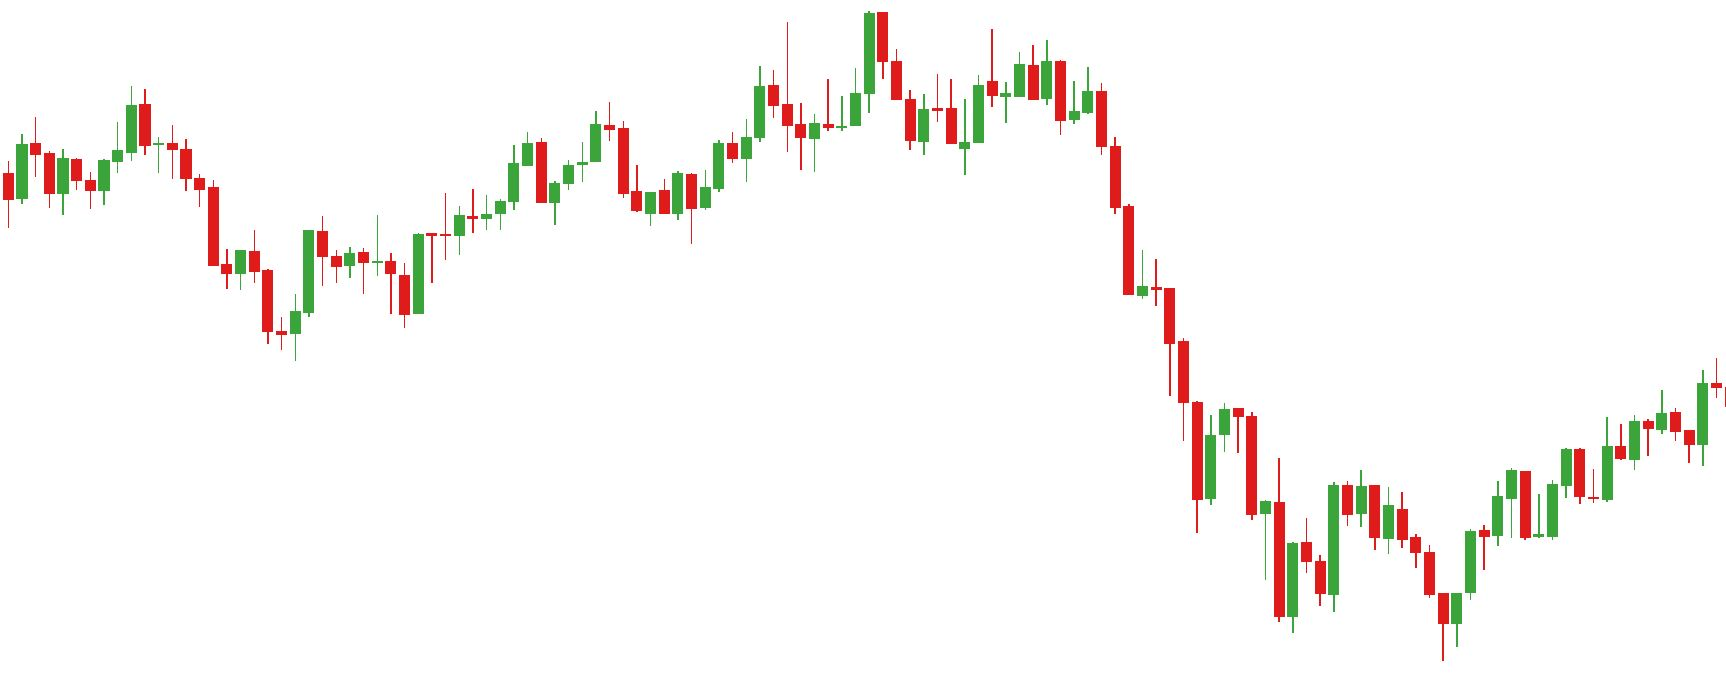buy: (1272, 526, 1462, 656)
sell: (26, 90, 151, 186), (782, 11, 887, 121)
